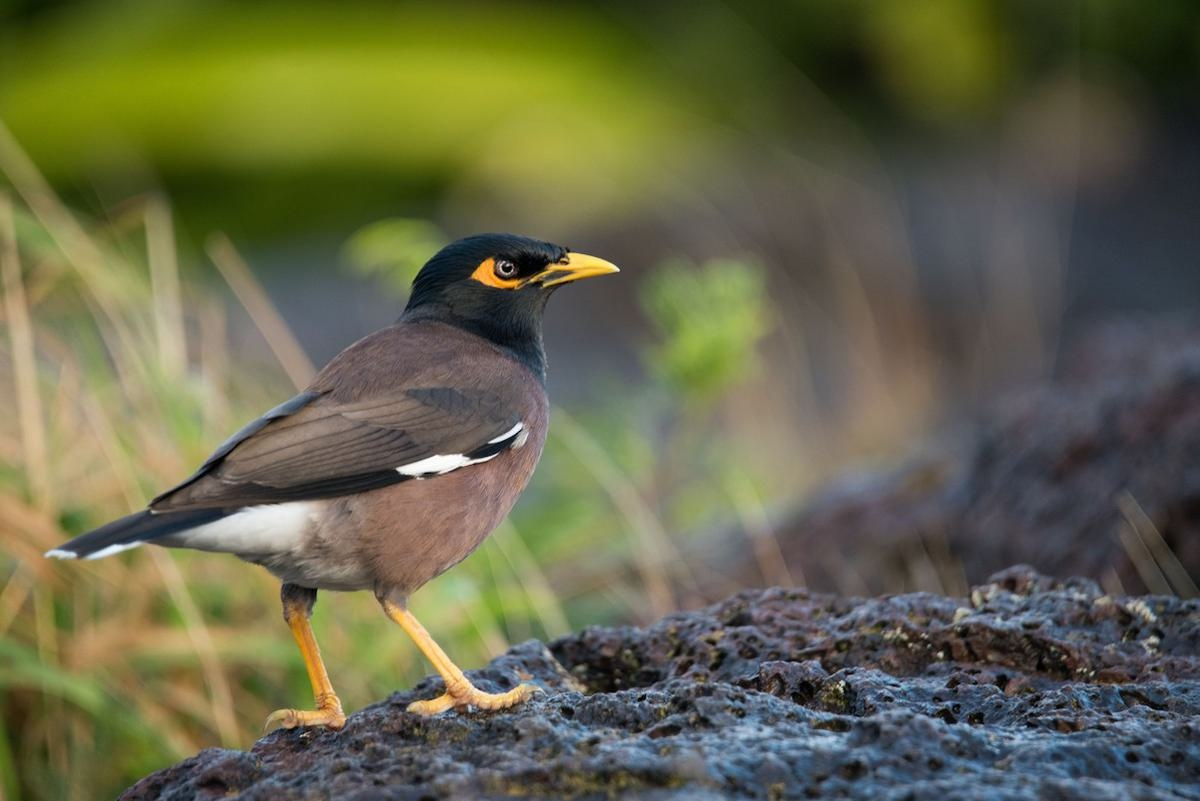myna: (79, 215, 670, 726)
